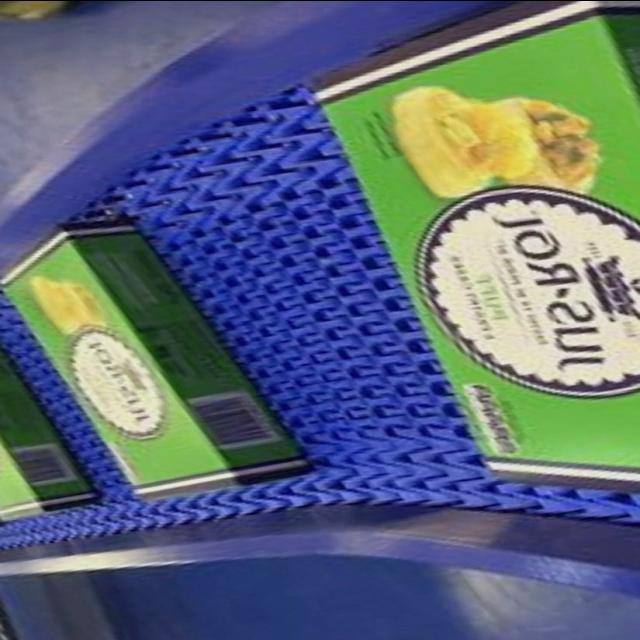food: (320, 10, 640, 478), (1, 219, 315, 503)
